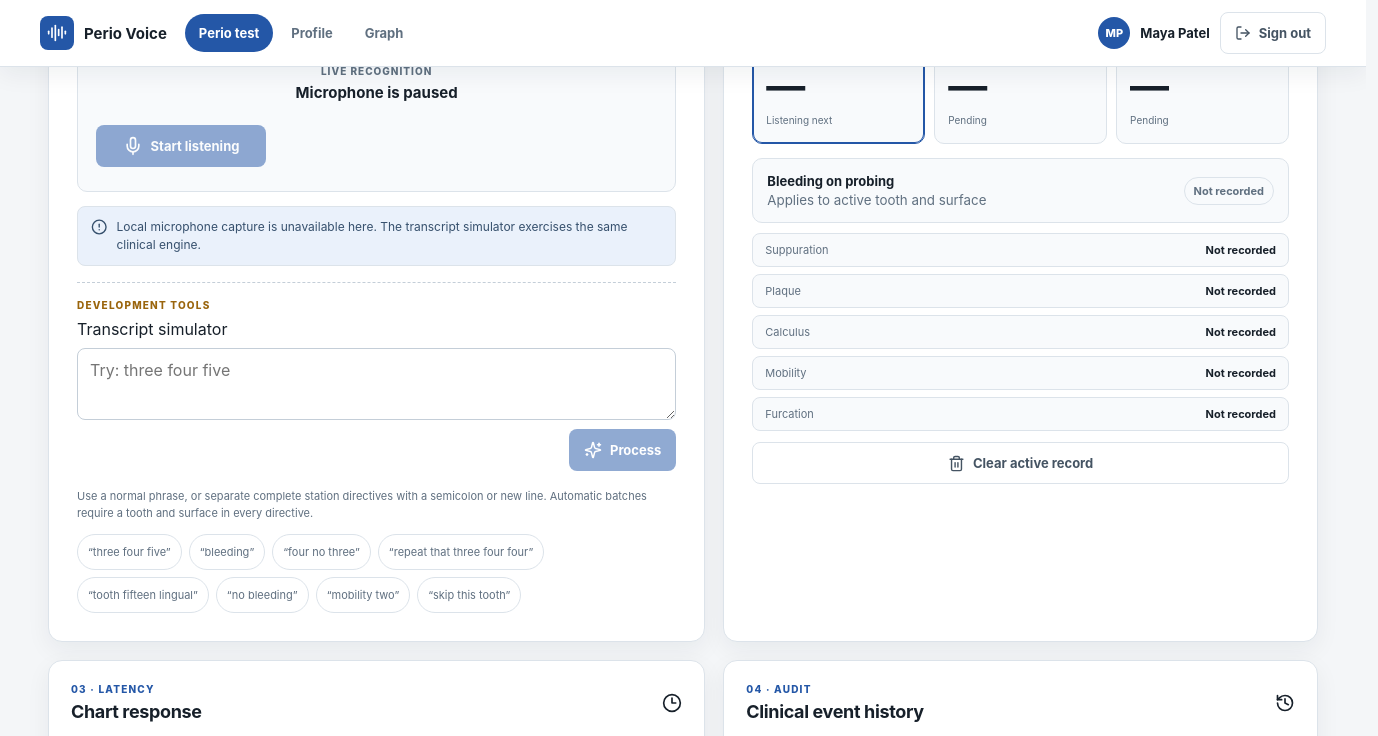
it: decision trace › explains why speech was refused, stage by stage
(page scrolled)
Step 1. Type "can you pass me four instruments" into the text box labelled "Transcript simulator" → (377, 384), box [77, 348, 676, 420]
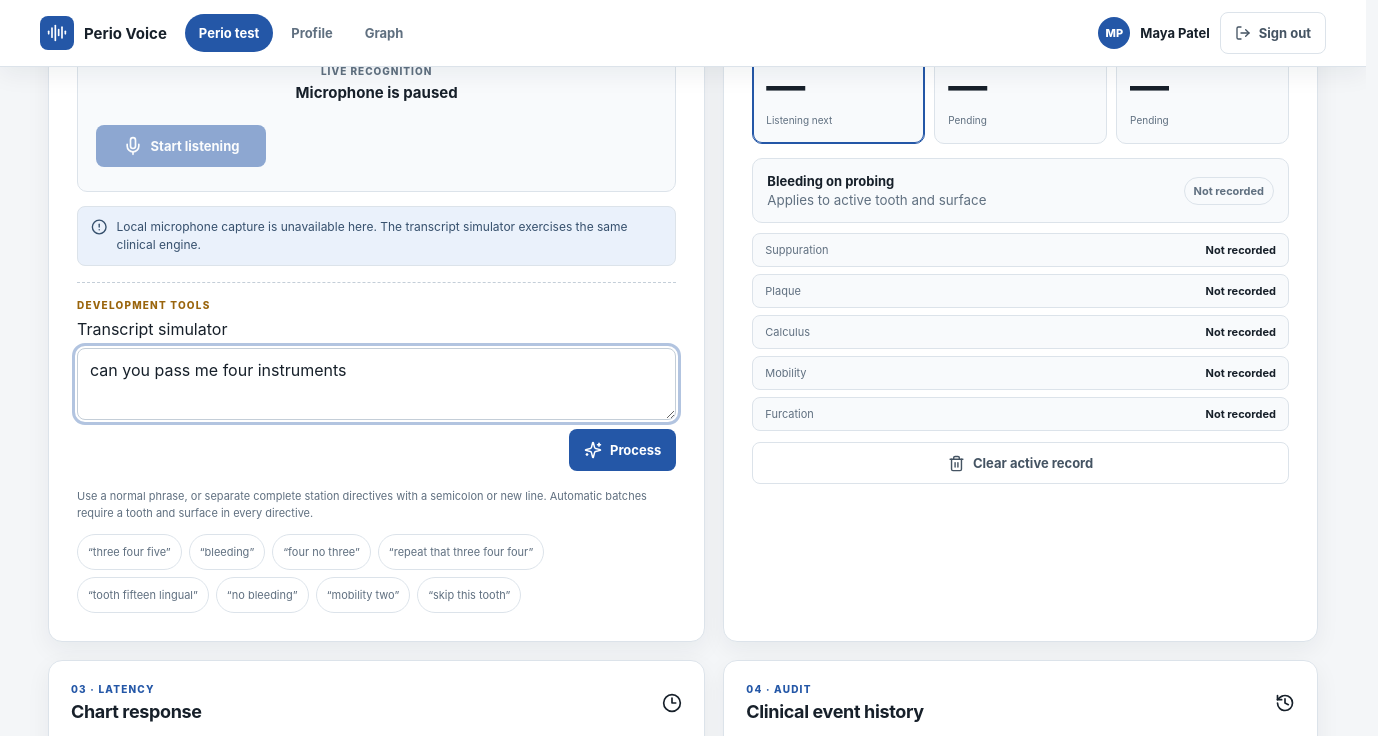
Step 2. Click the button "Process" → click(623, 450), box [569, 430, 676, 472]
(page scrolled)
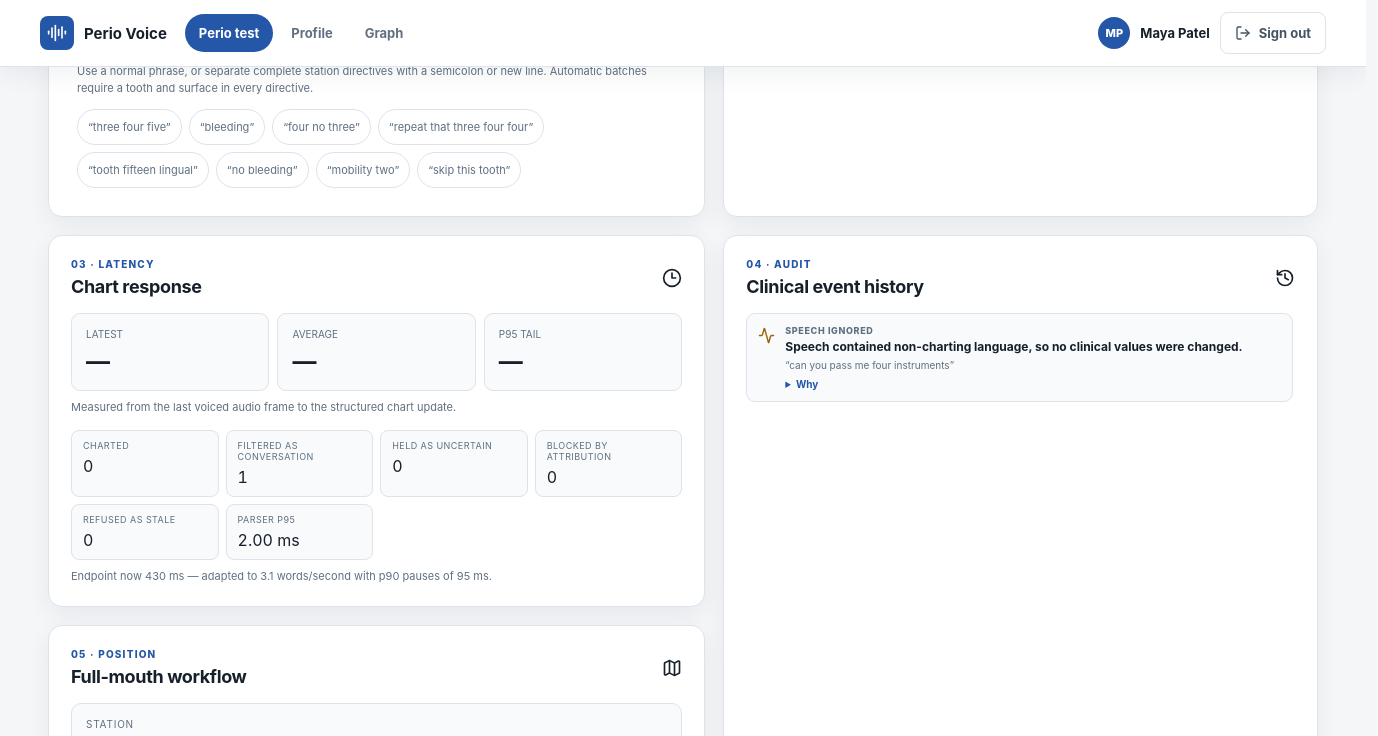
Step 3. Click the heading "Why" → click(807, 384), box [796, 378, 818, 390]
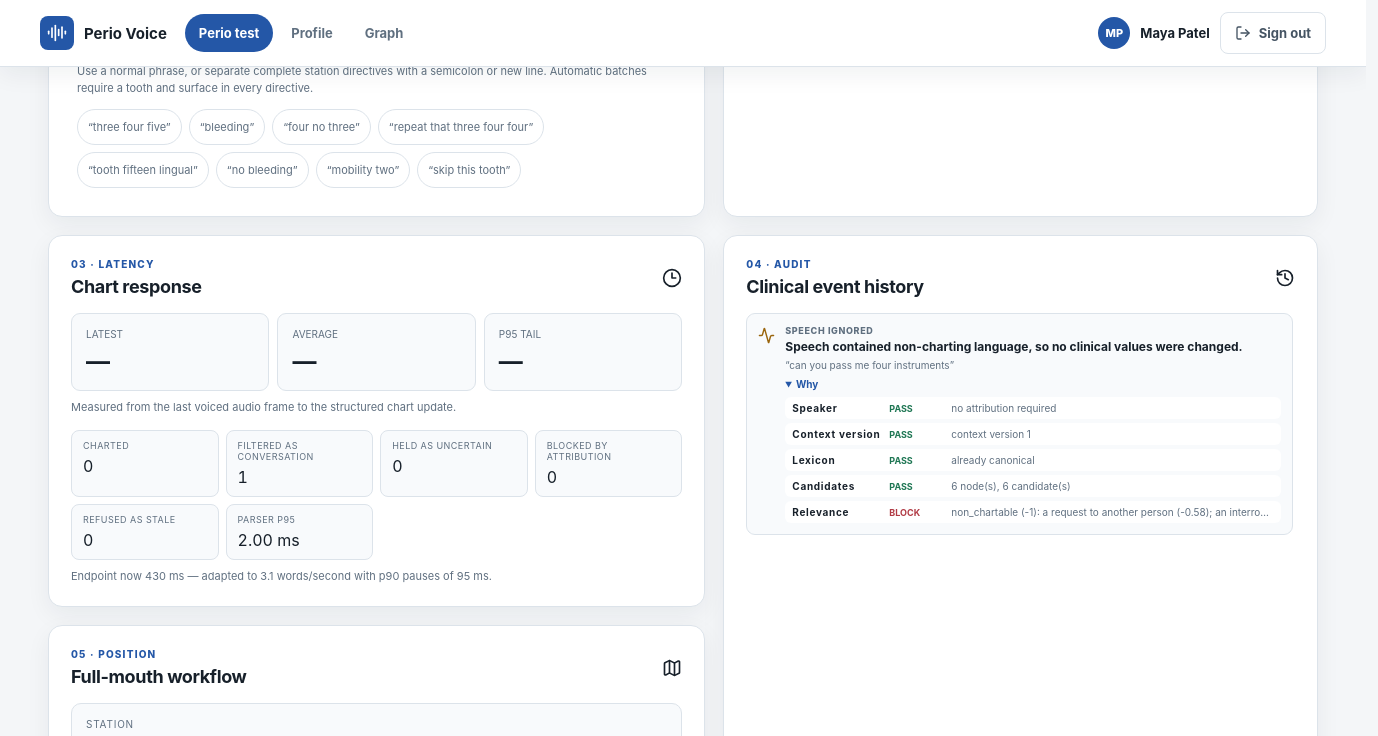
expect the text "Relevance" is shown: met, box [792, 506, 849, 518]
expect the text "block" is shown: met, box [889, 507, 920, 518]
